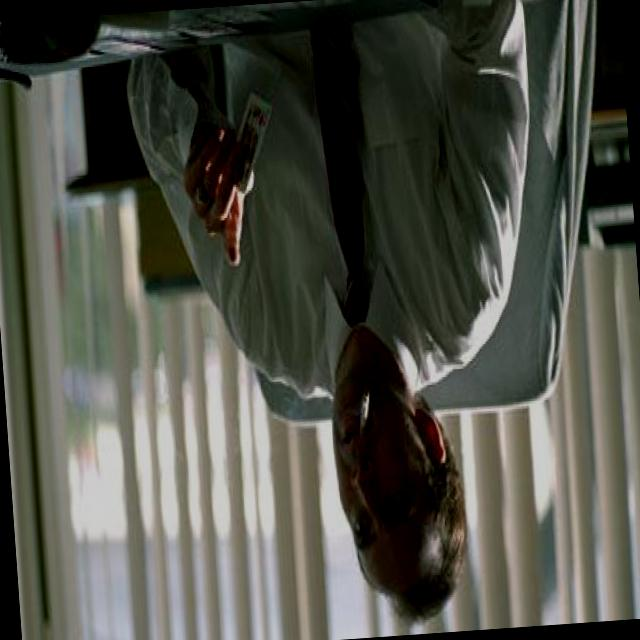smoke: (347, 365, 378, 453)
